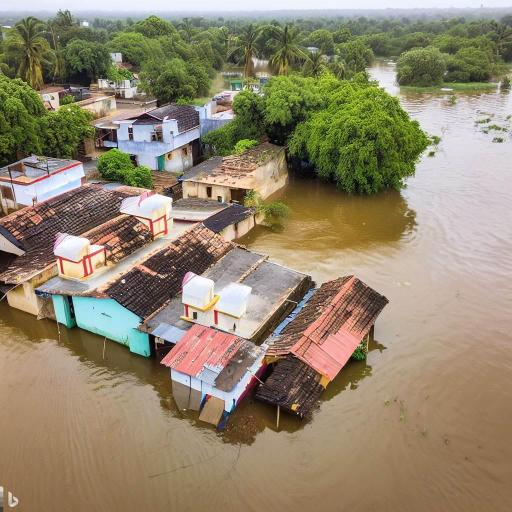flood: (0, 62, 512, 512)
house: (36, 219, 240, 356), (0, 181, 166, 315), (140, 244, 314, 352), (265, 277, 390, 417), (157, 322, 268, 436), (180, 144, 288, 210), (116, 103, 202, 175), (0, 152, 86, 211), (38, 84, 121, 124), (97, 61, 152, 100), (208, 87, 246, 121)
